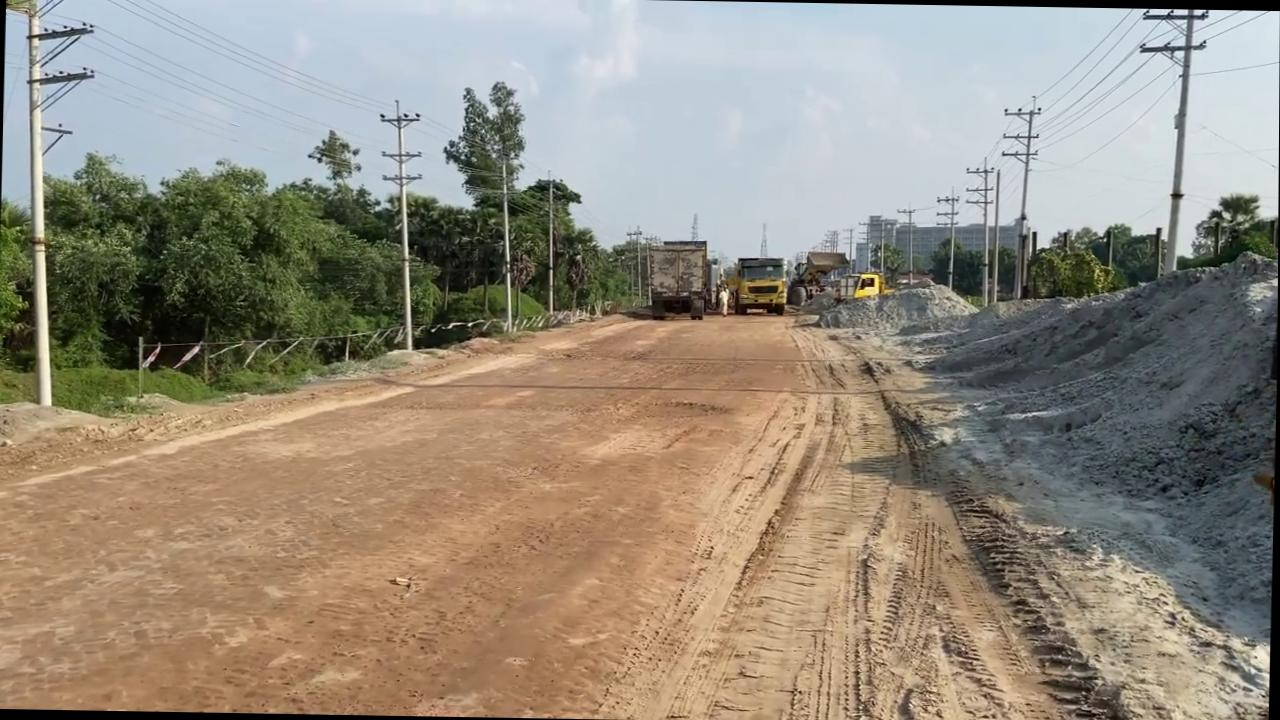Garbage-bin: (689, 292, 705, 320)
Obstacle: (650, 289, 706, 320)
Pole: (16, 0, 63, 406), (374, 99, 424, 350), (497, 156, 518, 332), (543, 170, 559, 316)
Tree: (646, 239, 710, 320), (722, 255, 789, 316), (786, 250, 851, 308), (834, 271, 895, 304)
